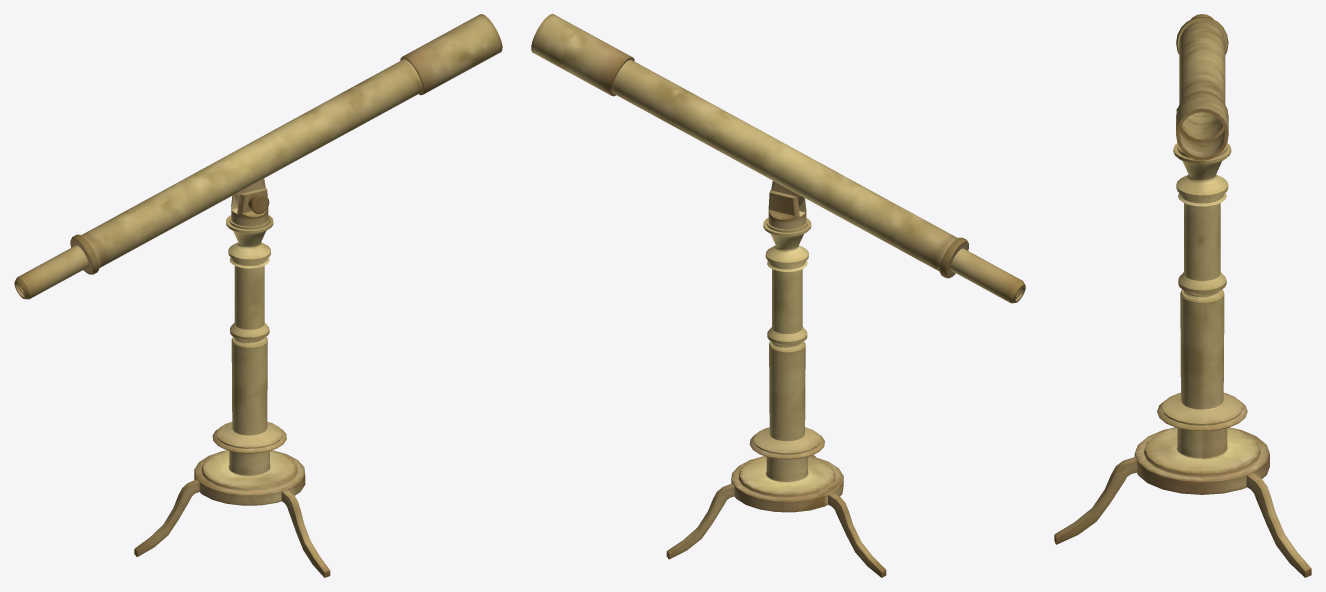
File: telescope.glb
3 renders of one model, left to right at view 1: azimuth 30°, elevation 25°; view 2: azimuth 150°, elevation 25°; view 3: azimuth 270°, elevation 25°, orthographic. The views are drawn at different scales.
Parts seen in each view (by area): view 1: SM_Telescope_blinn1_0; view 2: SM_Telescope_blinn1_0; view 3: SM_Telescope_blinn1_0.
Boxes of the visible parts, x1=… form: SM_Telescope_blinn1_0: x1=14, y1=14, x2=502, y2=577; SM_Telescope_blinn1_0: x1=531, y1=14, x2=1025, y2=577; SM_Telescope_blinn1_0: x1=1054, y1=14, x2=1311, y2=577.
Size of what is drawn, in the model's own units: 1.5 by 1.39 by 0.5747.
1 material, 1 textured.
